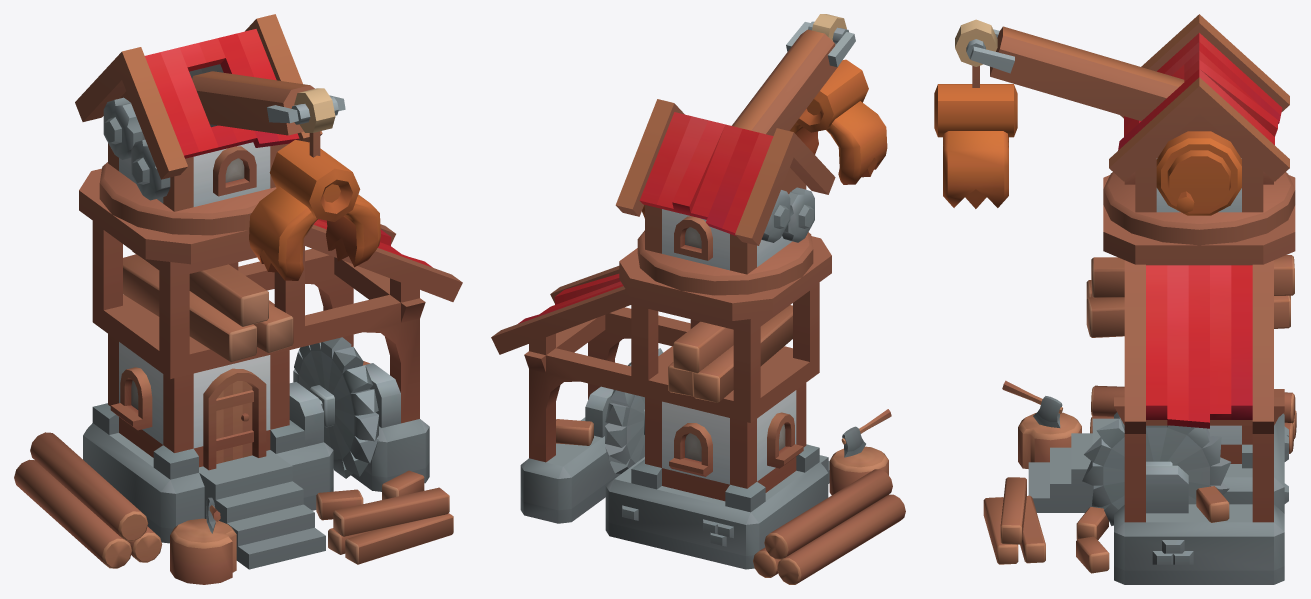
Rendered from kay-serraria-vermelha.gltf.
3 views of the same model, side by side, from view 1: azimuth 30°, elevation 25°; view 2: azimuth 150°, elevation 25°; view 3: azimuth 270°, elevation 25° (orthographic). The views are drawn at different scales.
Parts seen in each view (by area): view 1: building_lumbermill_red; view 2: building_lumbermill_red; view 3: building_lumbermill_red.
Part boxes in pixels (x1=…): building_lumbermill_red: x1=14, y1=14, x2=462, y2=584; building_lumbermill_red: x1=491, y1=14, x2=905, y2=584; building_lumbermill_red: x1=934, y1=14, x2=1296, y2=584.
Size of the model in its own units: 6.83 by 8.54 by 5.95.
Materials: 1 (1 with a texture image).
